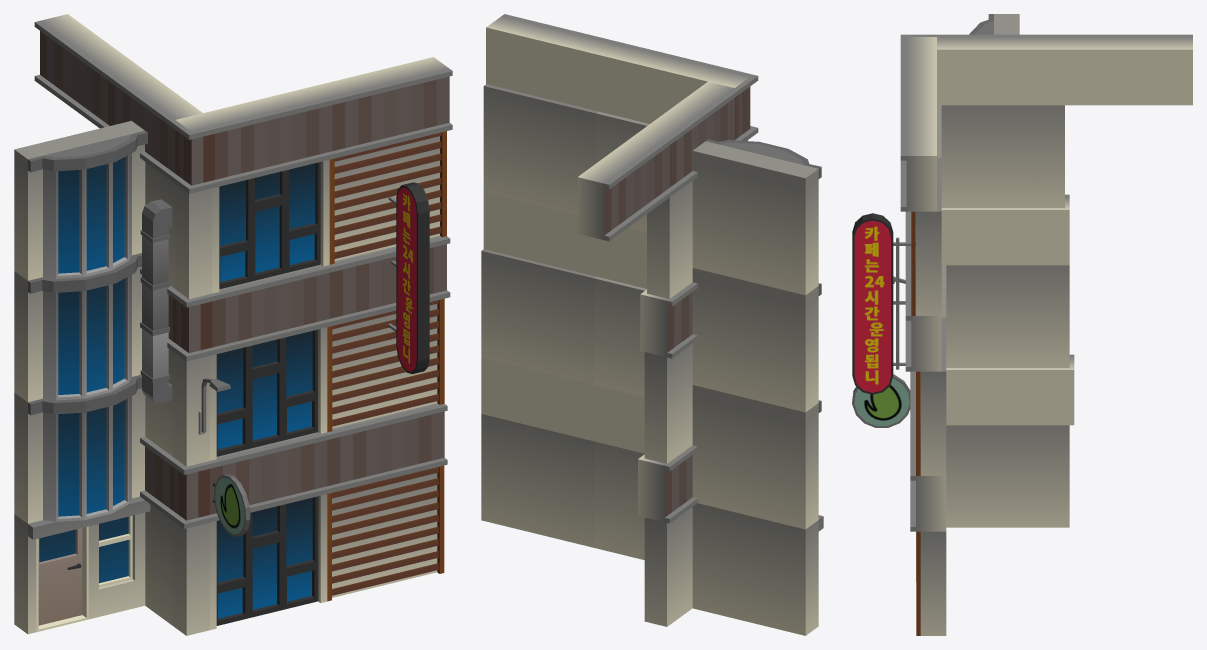
The model's file is B02_Facade-8-A.fbx.
The picture shows the model from 3 angles, left to right: view 1: azimuth 30°, elevation 25°; view 2: azimuth 150°, elevation 25°; view 3: azimuth 270°, elevation 25°; orthographic projection. The views are drawn at different scales.
Parts seen in each view (by area): view 1: B02_Facade-8-A; view 2: B02_Facade-8-A; view 3: B02_Facade-8-A.
Boxes of the visible parts, x1,y1,x2,y2 form: B02_Facade-8-A: (14, 14, 452, 635); B02_Facade-8-A: (481, 14, 823, 635); B02_Facade-8-A: (852, 14, 1192, 635).
Size of the model in its own units: 1200 by 1551 by 998.
